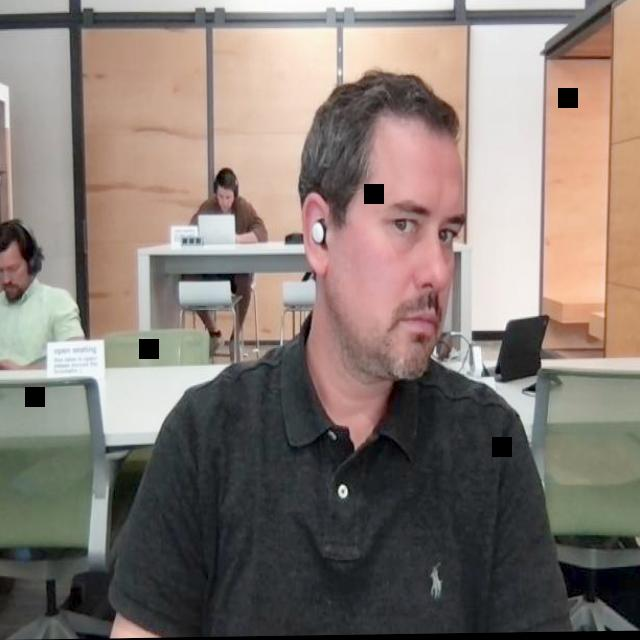NO-Mask: (300, 74, 465, 399), (0, 217, 42, 305), (215, 168, 238, 215)
